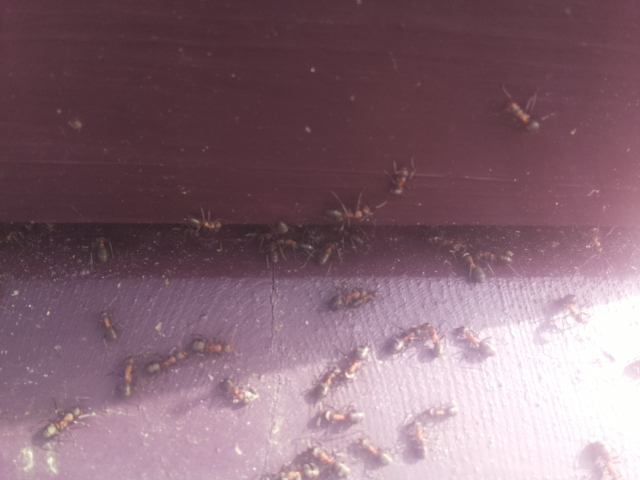ant: (33, 398, 94, 448), (494, 88, 549, 141), (137, 340, 195, 381), (302, 440, 354, 480), (572, 441, 623, 480), (303, 365, 347, 404), (348, 435, 398, 468), (322, 287, 384, 313), (114, 350, 143, 404), (338, 340, 373, 384), (552, 292, 593, 328), (451, 322, 493, 357), (216, 376, 262, 406), (181, 336, 240, 359), (316, 404, 368, 430), (182, 211, 227, 239), (321, 205, 376, 224), (95, 307, 122, 344), (461, 251, 489, 286), (407, 419, 428, 463), (422, 323, 444, 363), (388, 164, 412, 200), (427, 401, 461, 419)
